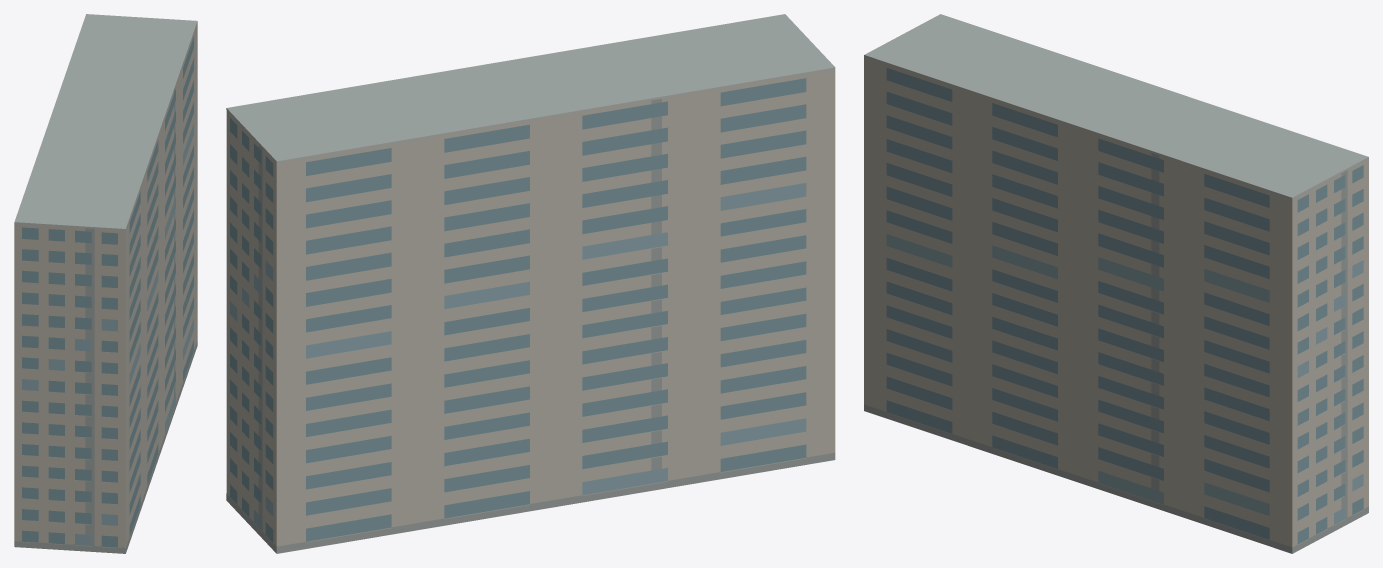
The model's file is residential-16e3c33f-cfb3-46df-9a1f-ee0815219aa6.glb.
3 renders of one model, left to right at view 1: azimuth 30°, elevation 25°; view 2: azimuth 150°, elevation 25°; view 3: azimuth 270°, elevation 25°, orthographic. The views are drawn at different scales.
Visible parts, largest first — view 1: residential-16e3c33f-cfb3-46df-9a1f-ee0815219aa6.tmp; view 2: residential-16e3c33f-cfb3-46df-9a1f-ee0815219aa6.tmp; view 3: residential-16e3c33f-cfb3-46df-9a1f-ee0815219aa6.tmp.
Part boxes in pixels (x1,y1,x2,y2): residential-16e3c33f-cfb3-46df-9a1f-ee0815219aa6.tmp: (14, 14, 197, 553); residential-16e3c33f-cfb3-46df-9a1f-ee0815219aa6.tmp: (226, 14, 835, 553); residential-16e3c33f-cfb3-46df-9a1f-ee0815219aa6.tmp: (864, 14, 1368, 553).
Size of the model in its own units: 50.64 by 45.75 by 58.76.
